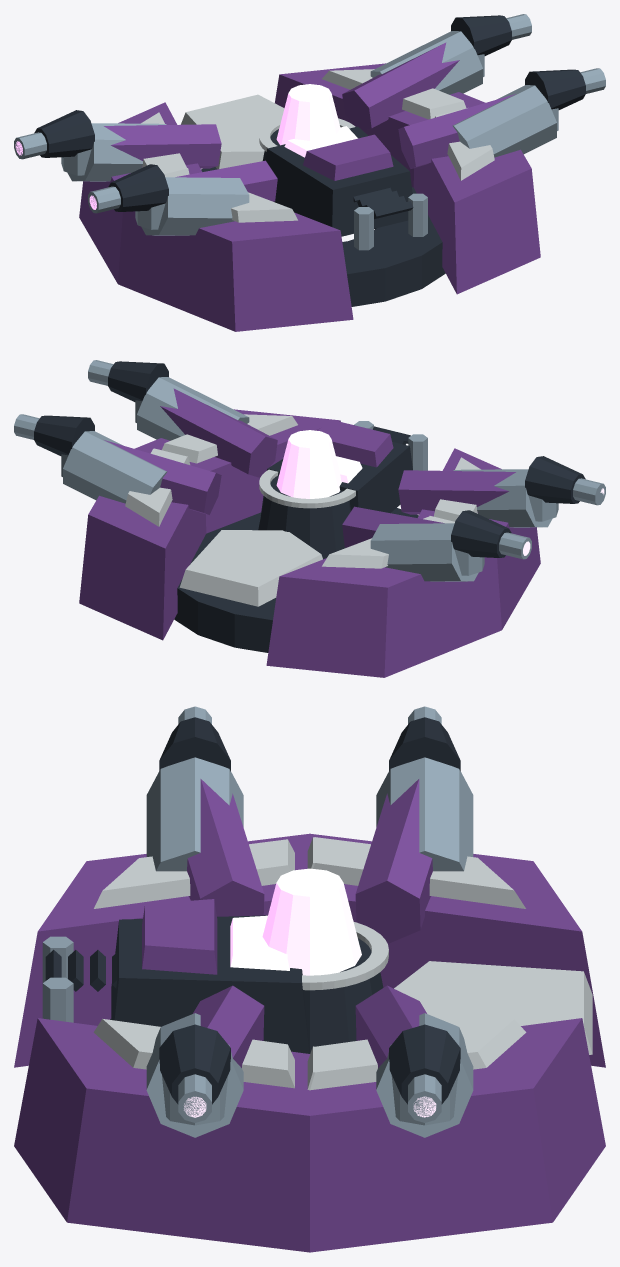
Rendered from c5_broadside.glb.
The picture shows the model from 3 angles, top to bottom: view 1: azimuth 30°, elevation 25°; view 2: azimuth 150°, elevation 25°; view 3: azimuth 270°, elevation 25°; orthographic projection. The views are drawn at different scales.
Visible parts, largest first — view 1: c5_broadside / Armor, c5_broadside / Chassis, c5_broadside / Titanium, c5_broadside / Identification, c5_broadside / Energy; view 2: c5_broadside / Armor, c5_broadside / Chassis, c5_broadside / Titanium, c5_broadside / Identification, c5_broadside / Energy; view 3: c5_broadside / Armor, c5_broadside / Identification, c5_broadside / Chassis, c5_broadside / Titanium, c5_broadside / Energy.
Boxes of the visible parts, x1=… form: c5_broadside / Armor: x1=79, y1=42, x2=540, y2=331; c5_broadside / Chassis: x1=34, y1=15, x2=585, y2=306; c5_broadside / Titanium: x1=14, y1=14, x2=605, y2=250; c5_broadside / Identification: x1=141, y1=69, x2=494, y2=222; c5_broadside / Energy: x1=15, y1=84, x2=357, y2=209; c5_broadside / Armor: x1=79, y1=388, x2=540, y2=677; c5_broadside / Chassis: x1=34, y1=361, x2=585, y2=652; c5_broadside / Titanium: x1=14, y1=360, x2=605, y2=581; c5_broadside / Identification: x1=125, y1=414, x2=480, y2=606; c5_broadside / Energy: x1=276, y1=430, x2=604, y2=555; c5_broadside / Armor: x1=14, y1=779, x2=605, y2=1252; c5_broadside / Identification: x1=93, y1=837, x2=592, y2=1090; c5_broadside / Chassis: x1=45, y1=717, x2=460, y2=1104; c5_broadside / Titanium: x1=42, y1=706, x2=473, y2=1137; c5_broadside / Energy: x1=184, y1=868, x2=436, y2=1117.
Bounding box in the file's own units: 2.06 × 0.6 × 1.34.
